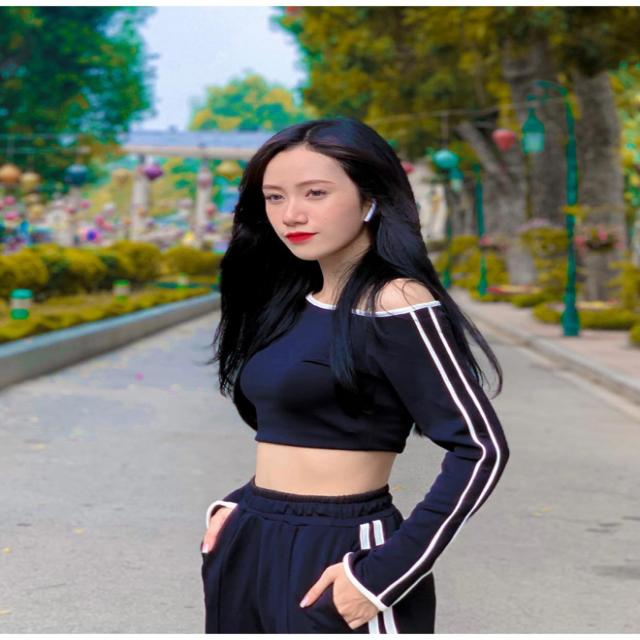clothes: (199, 276, 508, 633)
